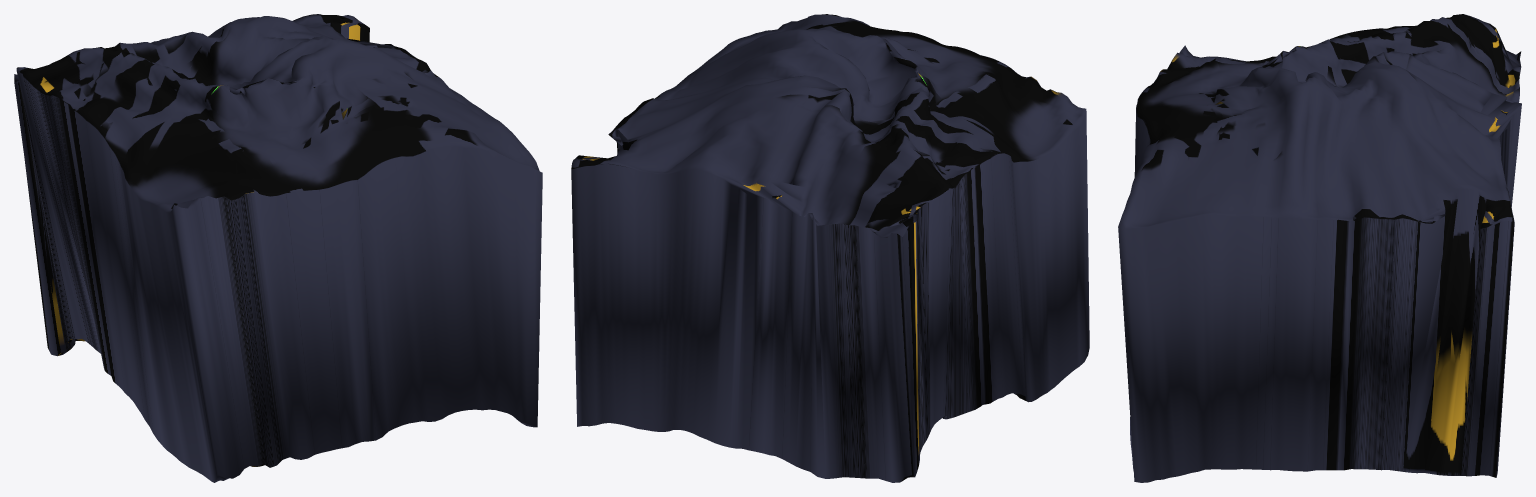
The model's file is Oldcity_groud1.glb.
3 views of the same model, side by side, from view 1: azimuth 30°, elevation 25°; view 2: azimuth 150°, elevation 25°; view 3: azimuth 270°, elevation 25° (orthographic). The views are drawn at different scales.
Parts seen in each view (by area): view 1: グリッド; view 2: グリッド; view 3: グリッド.
Part boxes in pixels (box(x1,y1,x2,y2)): グリッド: box(14, 14, 542, 482); グリッド: box(571, 14, 1089, 482); グリッド: box(1118, 14, 1521, 482).
Size of the model in its own units: 43.39 by 41.22 by 43.74.
Materials: 1 (1 with a texture image).
